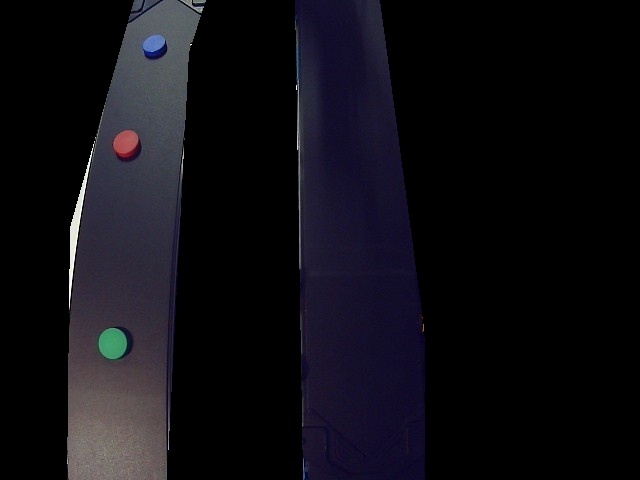Blue_Circle: (143, 34, 168, 59)
Green_Circle: (99, 328, 132, 361)
Red_Circle: (112, 128, 141, 159)
